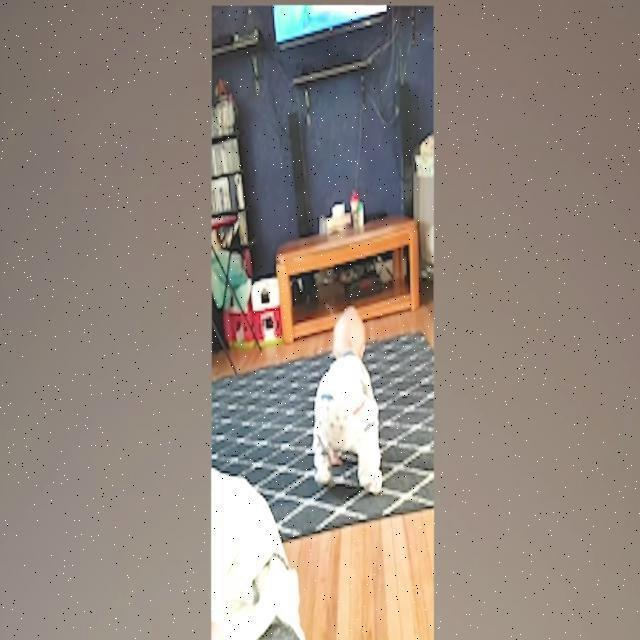child: (313, 303, 383, 493)
